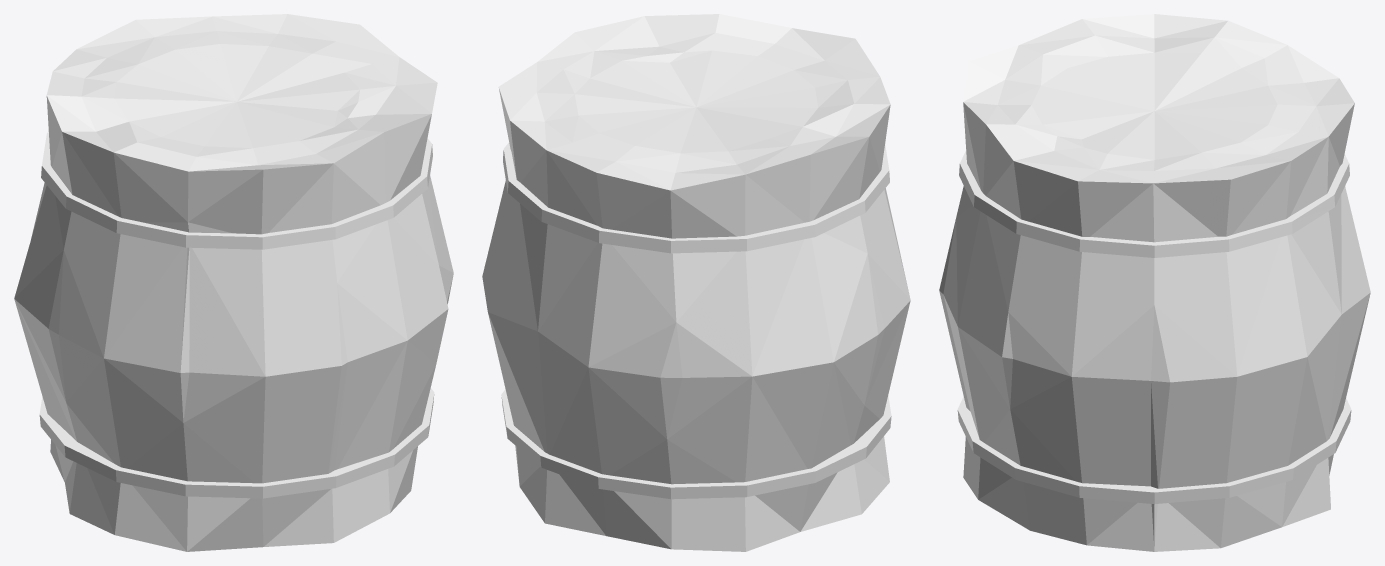
Rendered from Prop_Hay_Bale_Round_01.glb.
The picture shows the model from 3 angles, left to right: view 1: azimuth 30°, elevation 25°; view 2: azimuth 150°, elevation 25°; view 3: azimuth 270°, elevation 25°; orthographic projection.
Visible parts, largest first — view 1: Prop_Hay_Bale_Round_01; view 2: Prop_Hay_Bale_Round_01; view 3: Prop_Hay_Bale_Round_01.
Part boxes in pixels (x1=…): Prop_Hay_Bale_Round_01: x1=14, y1=14, x2=453, y2=551; Prop_Hay_Bale_Round_01: x1=482, y1=14, x2=910, y2=551; Prop_Hay_Bale_Round_01: x1=939, y1=14, x2=1370, y2=551.
Size of the model in its own units: 1.25 by 1.25 by 1.27.
1 material, 1 textured.
